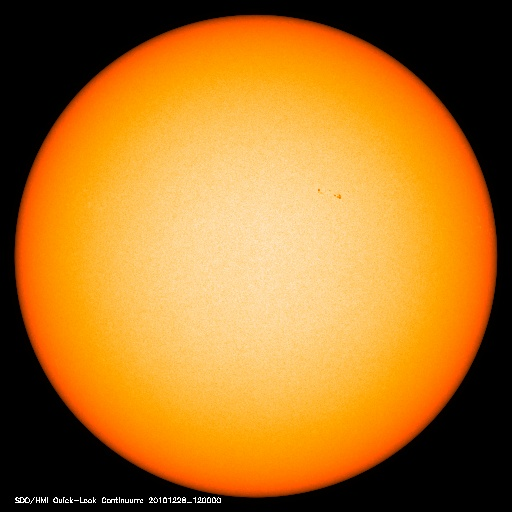sunspot: (304, 177, 355, 208)
